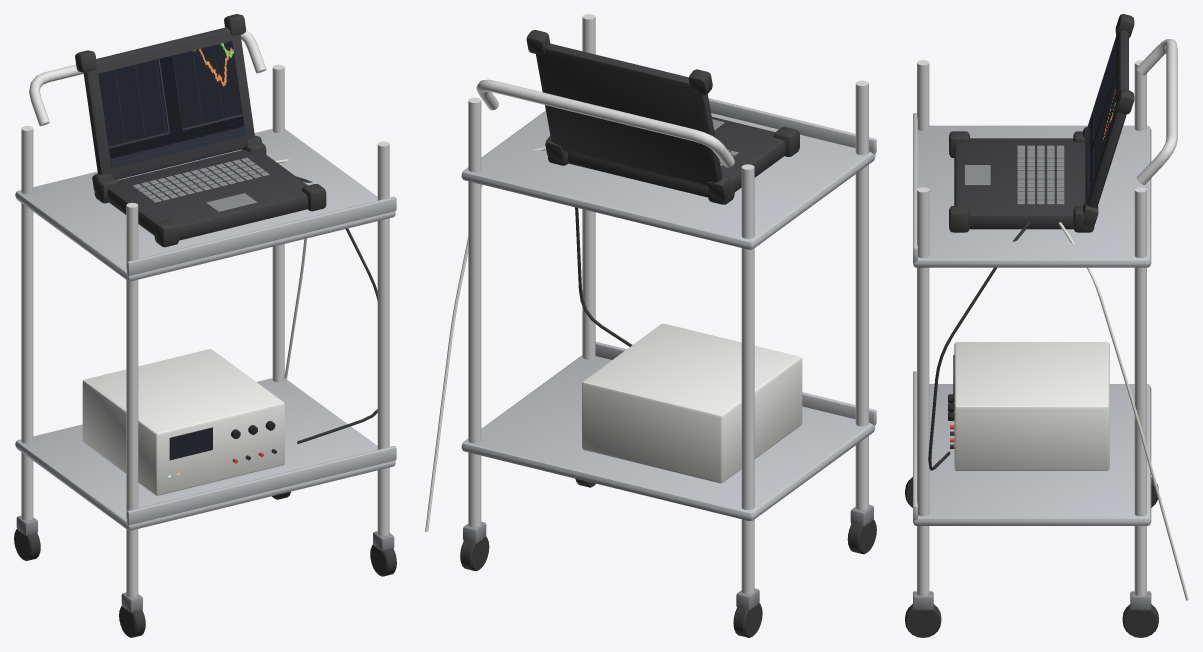
File: laptop_cart.glb
3 views of the same model, side by side, from view 1: azimuth 30°, elevation 25°; view 2: azimuth 150°, elevation 25°; view 3: azimuth 270°, elevation 25° (orthographic). The views are drawn at different scales.
Parts seen in each view (by area): view 1: laptop_cart, gse_supply, lid, laptop; view 2: laptop_cart, gse_supply, lid, laptop; view 3: laptop_cart, gse_supply, laptop, lid.
Part boxes in pixels (left/top/right/bottom): laptop_cart: left=14, top=30, right=396, bottom=637; gse_supply: left=82, top=349, right=284, bottom=495; lid: left=75, top=14, right=261, bottom=192; laptop: left=94, top=142, right=326, bottom=247; laptop_cart: left=425, top=14, right=876, bottom=637; gse_supply: left=582, top=323, right=802, bottom=483; lid: left=526, top=30, right=731, bottom=199; laptop: left=548, top=116, right=799, bottom=204; laptop_cart: left=905, top=39, right=1188, bottom=637; gse_supply: left=948, top=342, right=1109, bottom=470; laptop: left=949, top=131, right=1094, bottom=232; lid: left=1083, top=14, right=1134, bottom=226.
Bounding box in the file's own units: 0.6529 × 1.1 × 0.5479.
Materials: 14 (1 with a texture image).
